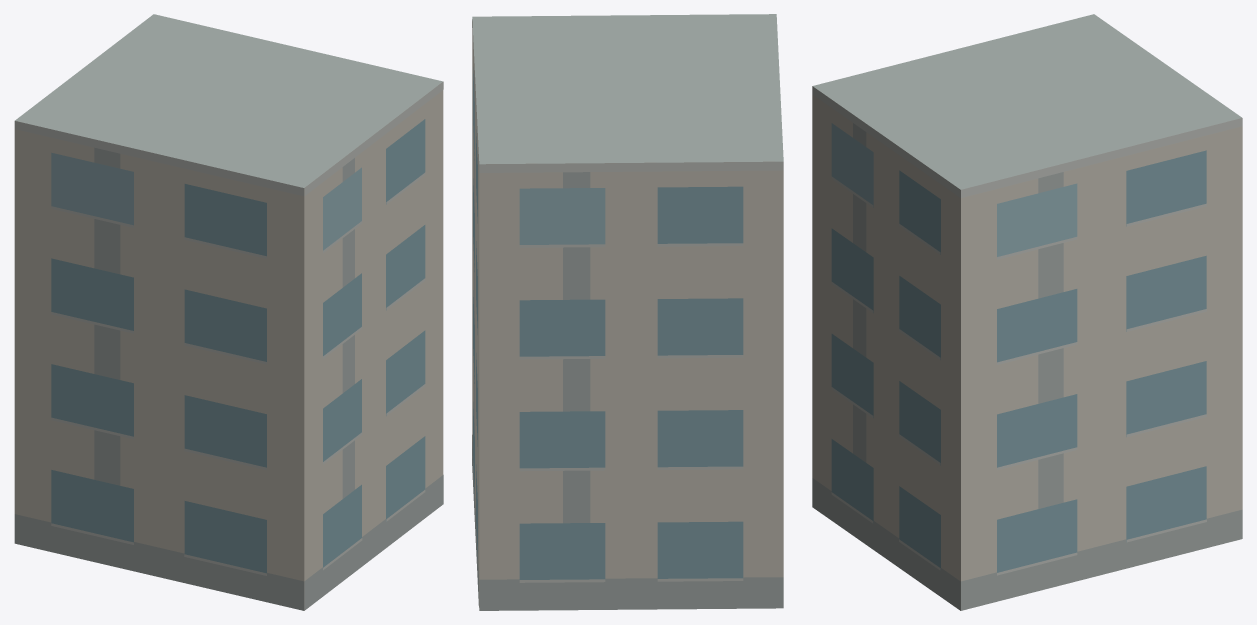
Rendered from residential-4b97064a-af58-4f29-8991-6a8d5e32d5a5.glb.
3 views of the same model, side by side, from view 1: azimuth 30°, elevation 25°; view 2: azimuth 150°, elevation 25°; view 3: azimuth 270°, elevation 25° (orthographic). The views are drawn at different scales.
Parts seen in each view (by area): view 1: residential-4b97064a-af58-4f29-8991-6a8d5e32d5a5.tmp; view 2: residential-4b97064a-af58-4f29-8991-6a8d5e32d5a5.tmp; view 3: residential-4b97064a-af58-4f29-8991-6a8d5e32d5a5.tmp.
Part boxes in pixels (left/top/right/bottom): residential-4b97064a-af58-4f29-8991-6a8d5e32d5a5.tmp: left=14, top=14, right=443, bottom=610; residential-4b97064a-af58-4f29-8991-6a8d5e32d5a5.tmp: left=472, top=14, right=783, bottom=610; residential-4b97064a-af58-4f29-8991-6a8d5e32d5a5.tmp: left=812, top=14, right=1242, bottom=610.
Size of the model in its own units: 11.02 by 12.3 by 11.4.
